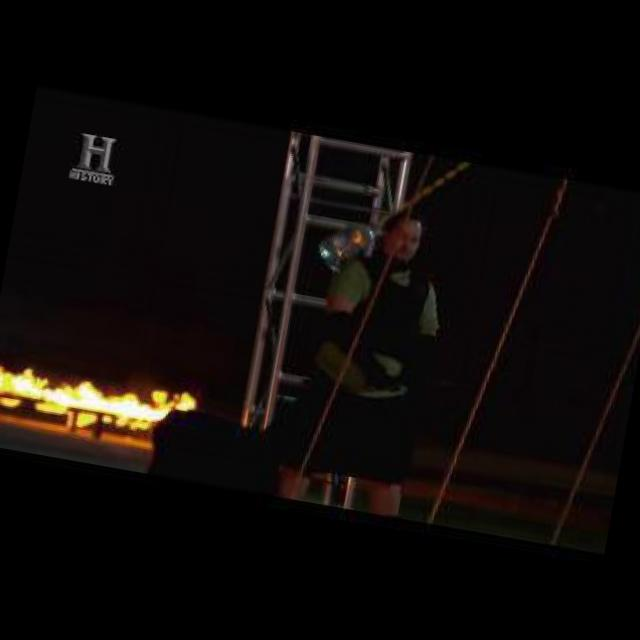fire: (0, 352, 195, 449)
